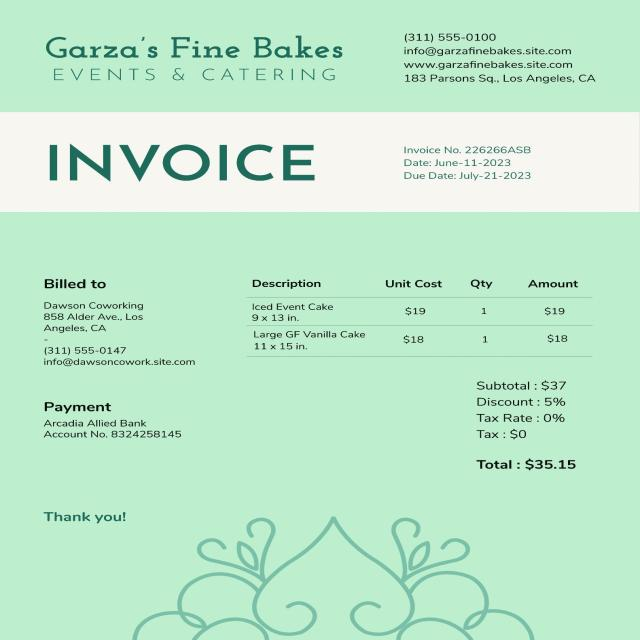paragraph: (25, 24, 353, 92), (31, 268, 202, 378), (26, 132, 332, 188), (397, 28, 603, 90), (30, 391, 192, 449), (466, 376, 578, 449), (395, 140, 548, 188), (472, 454, 584, 478), (32, 504, 140, 526)
table: (234, 268, 608, 365)
